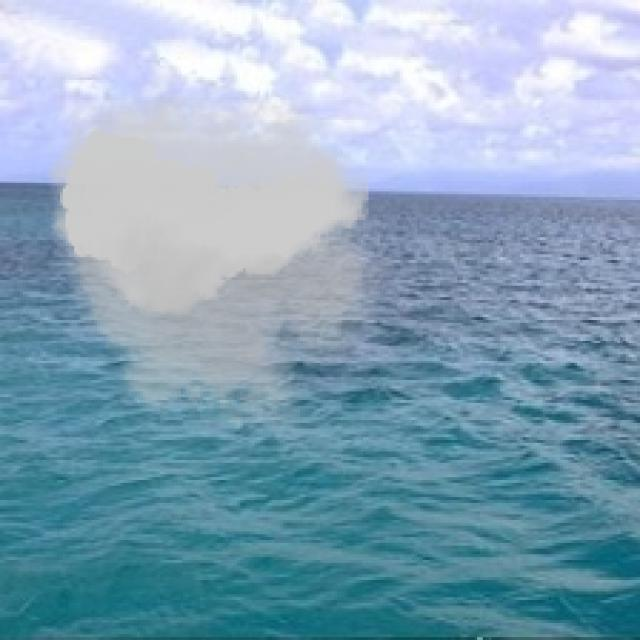smoke: (37, 66, 392, 451)
